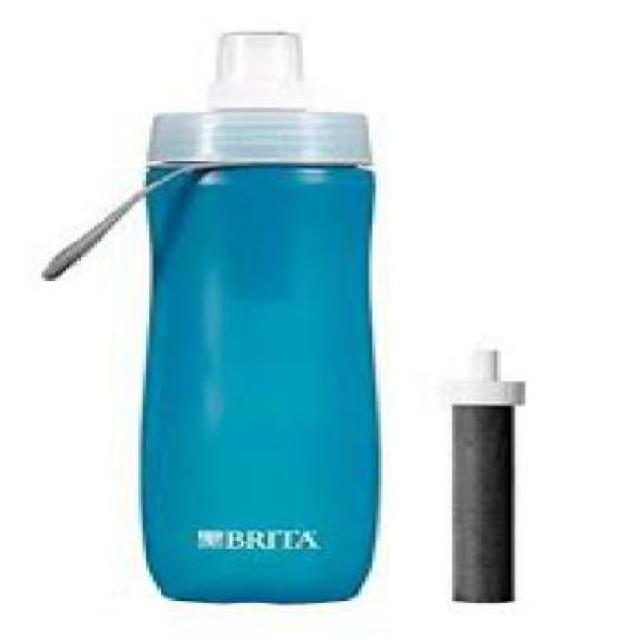Drinking: (108, 16, 397, 612)
